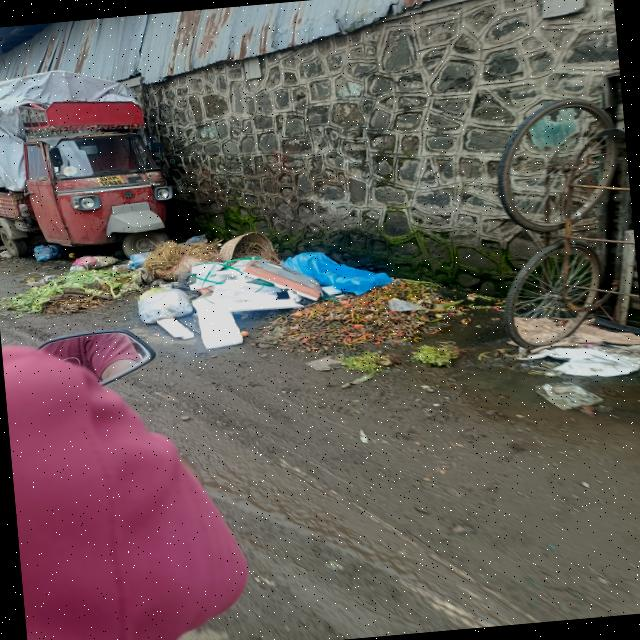garbage: (46, 218, 423, 364)
